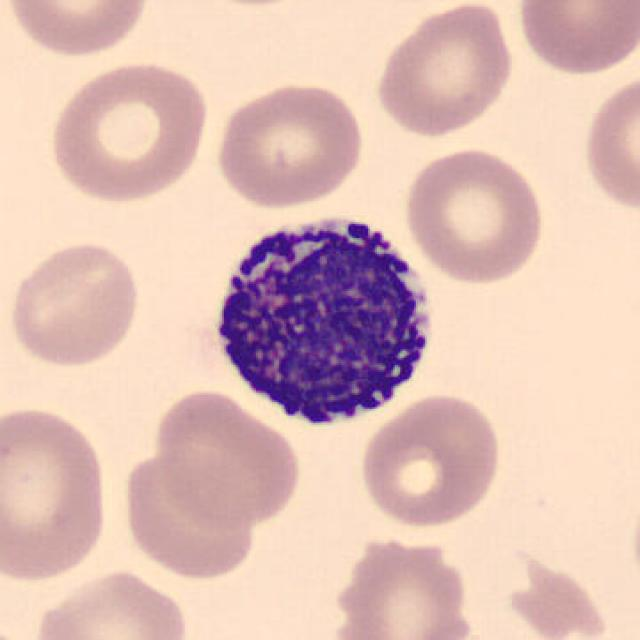Basophil: (201, 197, 444, 439)
RBC: (45, 56, 214, 206), (151, 386, 304, 531), (0, 400, 114, 587), (400, 144, 548, 288), (212, 77, 368, 212), (355, 390, 505, 530), (369, 0, 517, 139), (116, 442, 262, 582), (5, 237, 144, 371), (322, 529, 474, 640), (30, 566, 192, 640), (512, 0, 638, 79), (1, 0, 154, 60), (579, 69, 640, 217), (0, 615, 48, 640)
